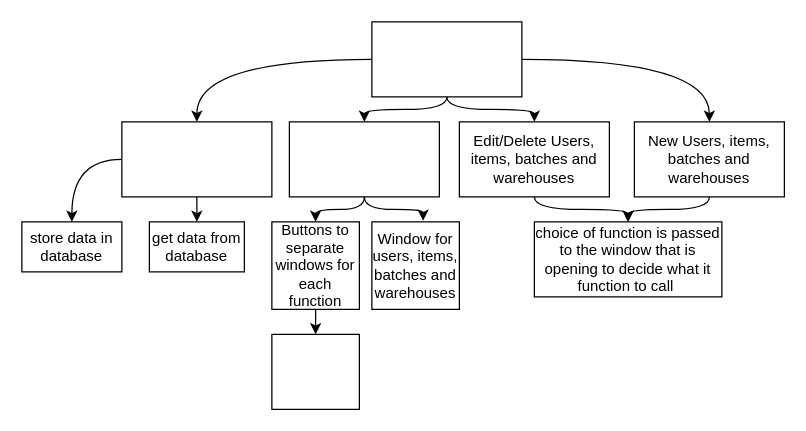
This 806x431 diagram has some shape labels left out. Each missing label, with the centre of its shape:
"Admin Menu" belongs at (446,59).
"Database" belongs at (196,159).
"drop down to chose what to do" belongs at (315,371).
"GUI" belongs at (363,159).
